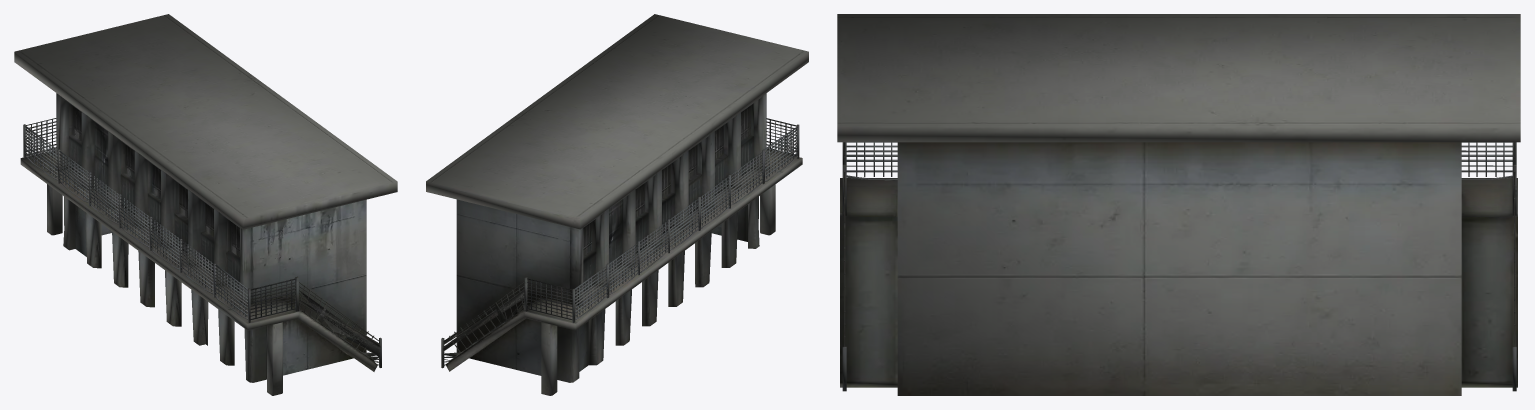
The model's file is bloco_celas.glb.
The picture shows the model from 3 angles, left to right: view 1: azimuth 30°, elevation 25°; view 2: azimuth 150°, elevation 25°; view 3: azimuth 270°, elevation 25°; orthographic projection. The views are drawn at different scales.
Parts seen in each view (by area): view 1: Bloco de celas; view 2: Bloco de celas; view 3: Bloco de celas.
Boxes of the visible parts, left/top/right/bottom form: Bloco de celas: left=14, top=14, right=397, bottom=395; Bloco de celas: left=426, top=14, right=808, bottom=395; Bloco de celas: left=837, top=14, right=1520, bottom=395.
Bounding box in the file's own units: 0.3887 × 0.4473 × 0.998.
Materials: 1 (1 with a texture image).
